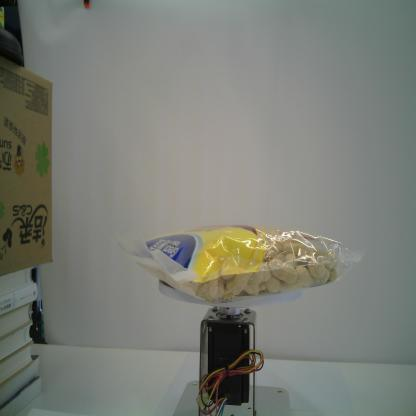Dried Food: (115, 222, 366, 304)
